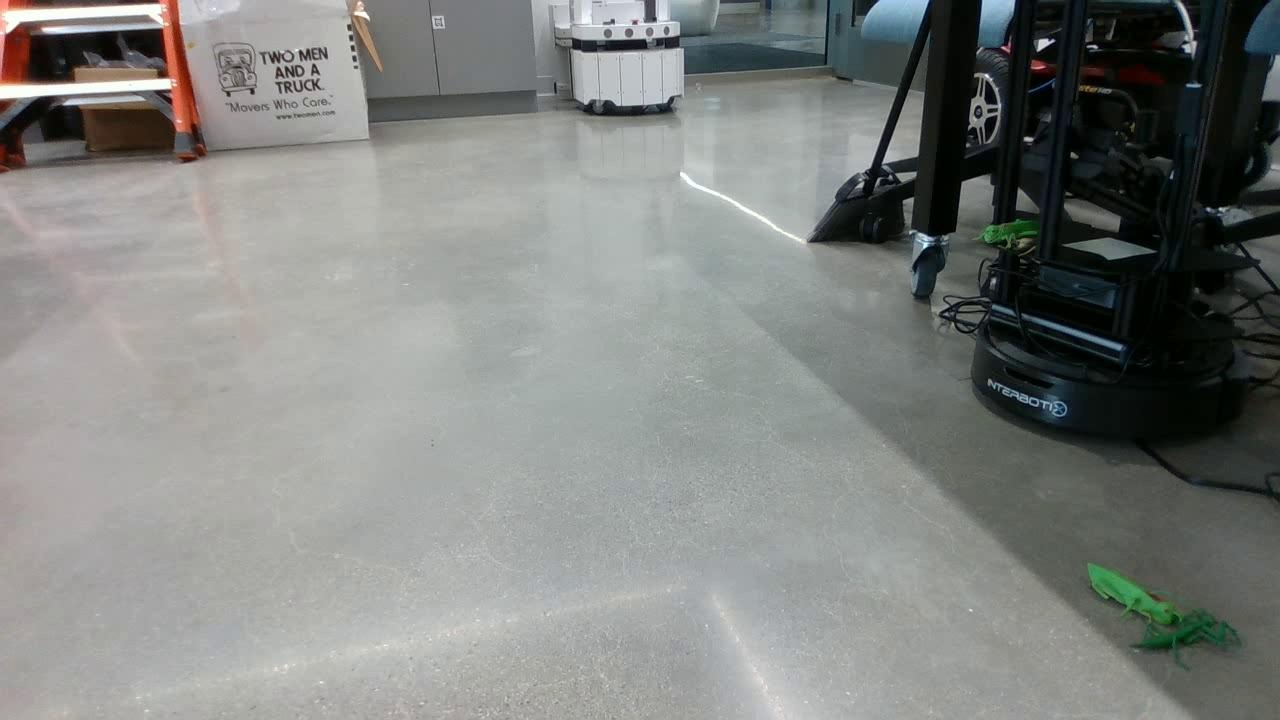grasshopper: (1085, 555, 1182, 626), (974, 220, 1044, 245)
